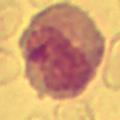lymphocyte: (19, 4, 106, 100)
